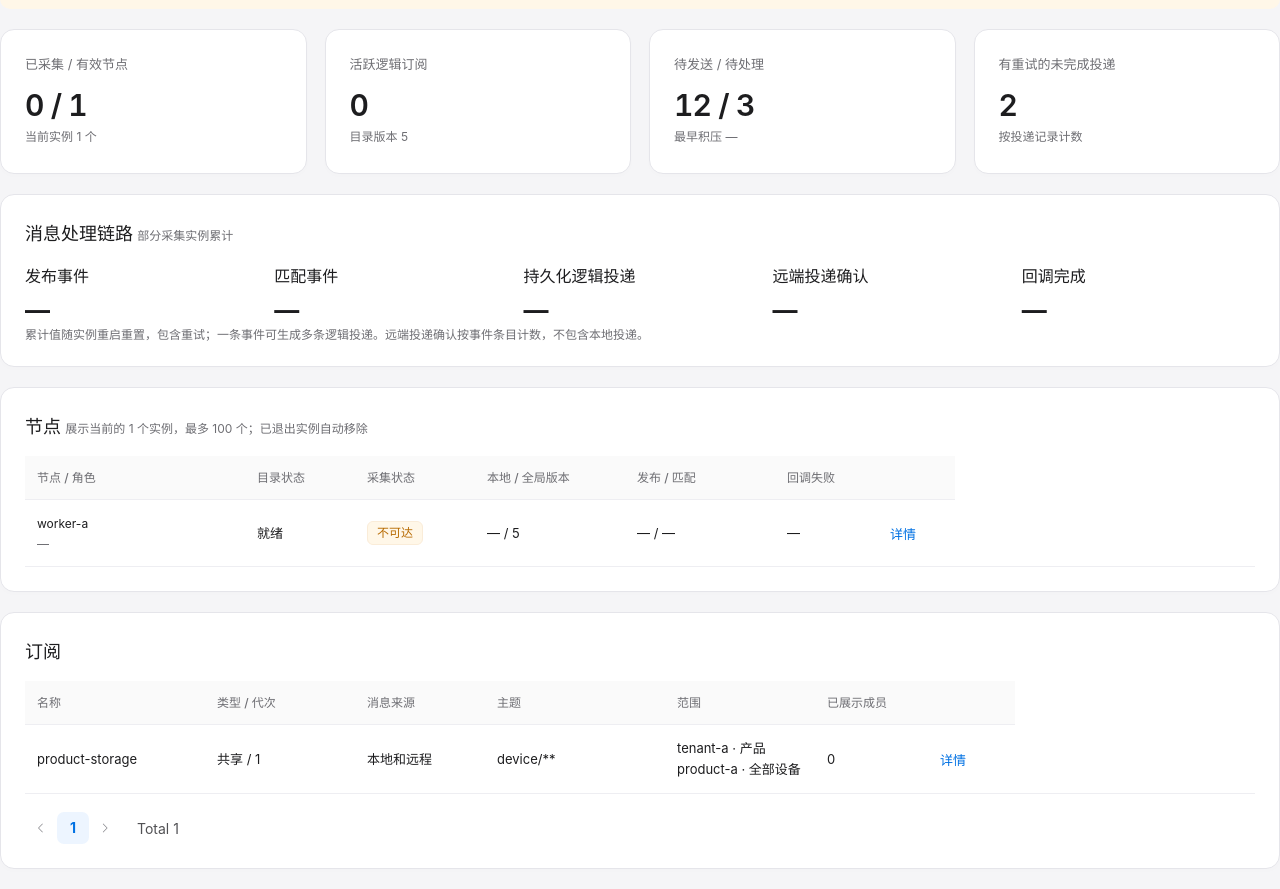
Test: shows the product scope in both the subscription list and details
(page scrolled)
Click the button "详情" in the row of "product-storage" at (953, 760), box [937,751,969,770]
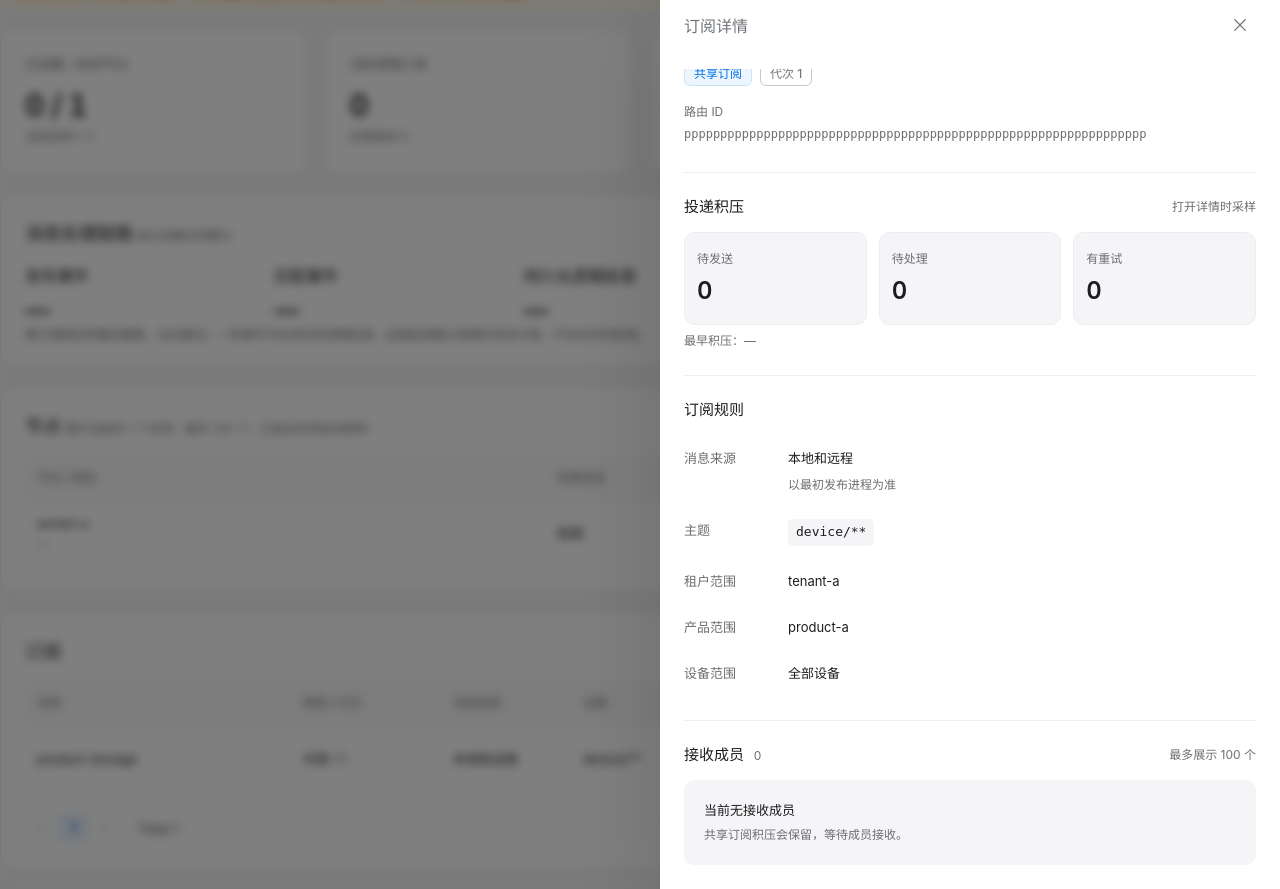
Expected: the element with class "subscription-rules" shows "产品范围", [684,619,736,635]
Expected: the element with class "subscription-rules" shows "product-a", [788,619,849,635]
Expected: the element with class "subscription-rules" shows "全部设备", [788,665,840,681]
